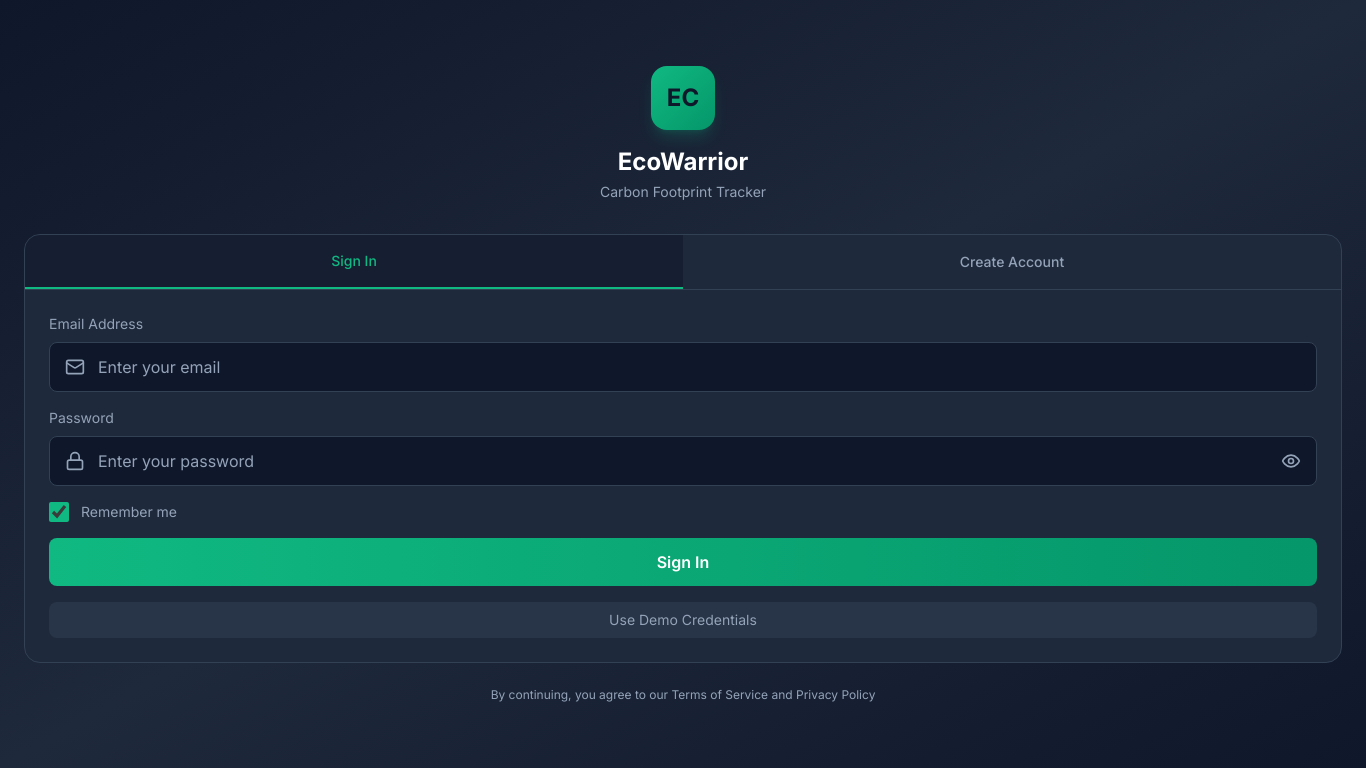
Scenario: AuthPortal – Form Validation › shows password error when form submitted with empty password
The image size is (1366, 768).
Step 1. Type "test@test.com" into the field labelled "Email Address" → (683, 366), box [49, 342, 1317, 392]
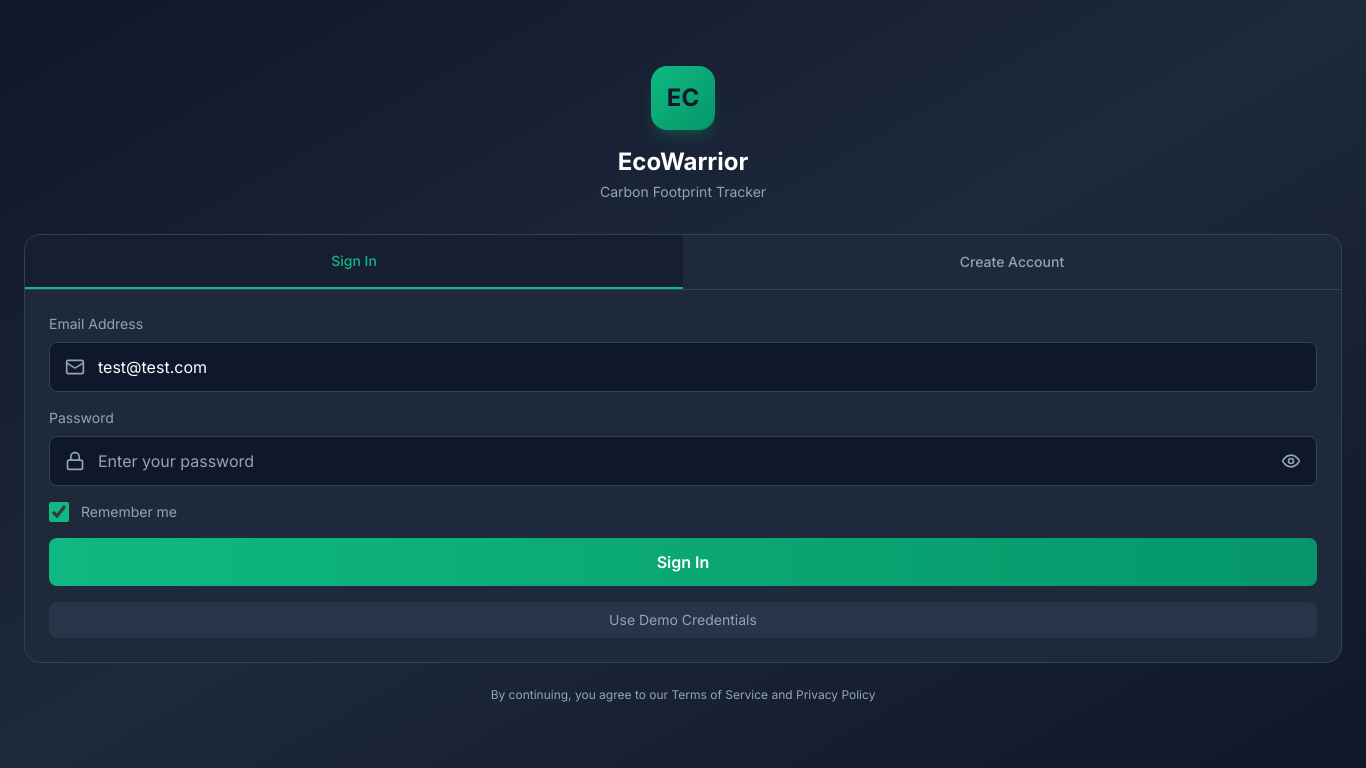
Step 2. Click the button with aria-label "sign in to your account" → (683, 562), box [49, 538, 1317, 586]
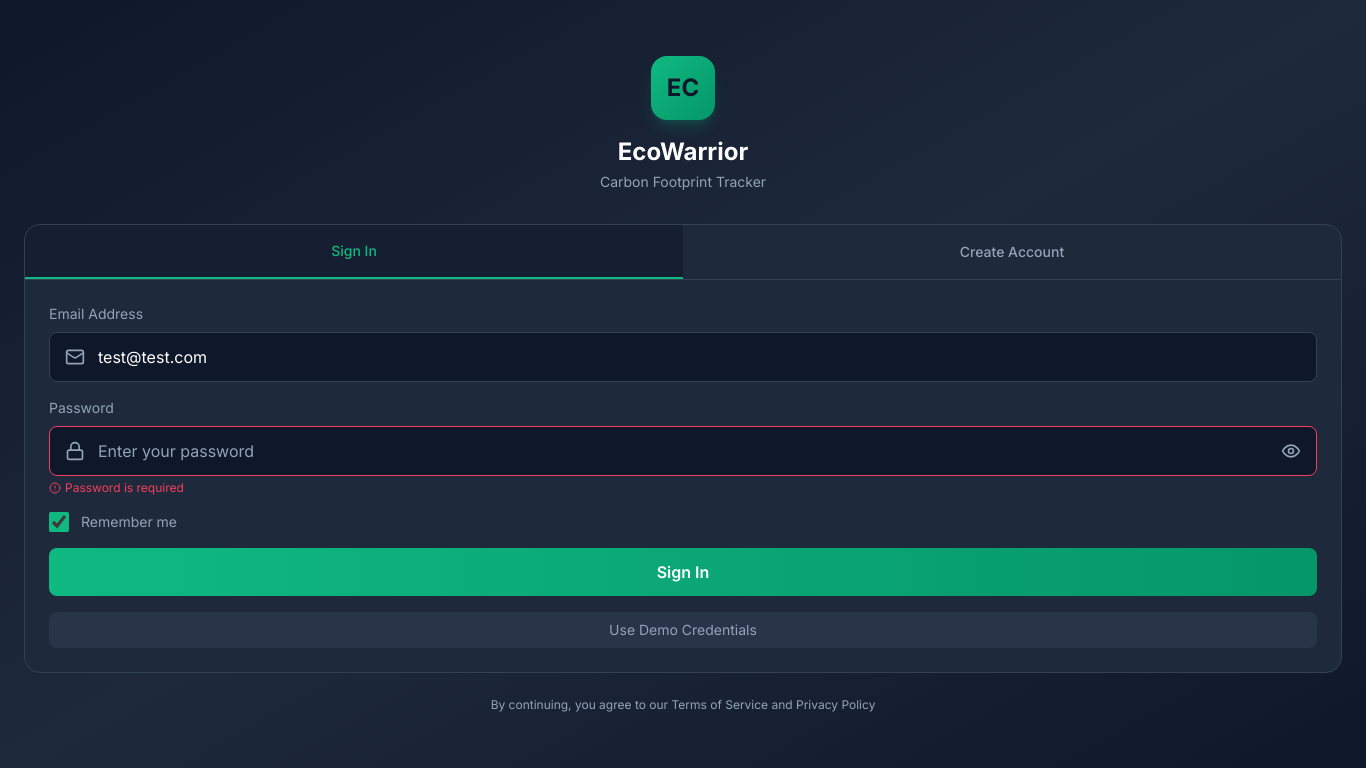
Expected: the text "Password is required" is shown, [49, 480, 184, 494]
